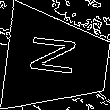N_E: (28, 38, 86, 84)
